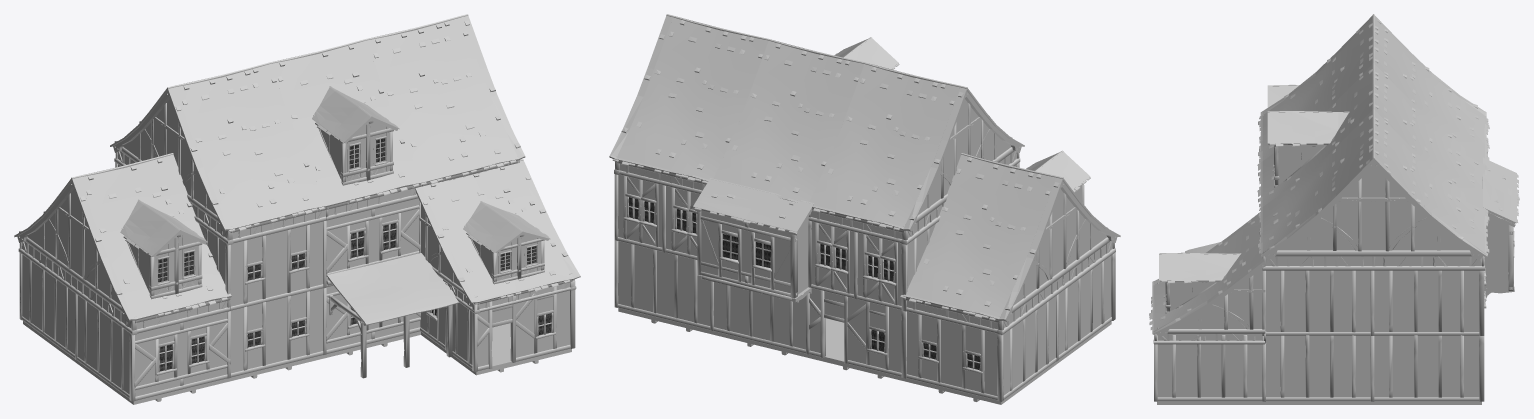
Rendered from House_5.fbx.
3 renders of one model, left to right at view 1: azimuth 30°, elevation 25°; view 2: azimuth 150°, elevation 25°; view 3: azimuth 270°, elevation 25°, orthographic. The views are drawn at different scales.
Parts seen in each view (by area): view 1: StaticMeshComponent04, StaticMeshComponent06, StaticMeshComponent03, StaticMeshComponent012, StaticMeshComponent014, StaticMeshComponent02, StaticMesh3, StaticMeshComponent09, StaticMeshComponent07, StaticMeshComponent016, StaticMeshComponent01, StaticMeshComponent011 (+12 smaller); view 2: StaticMeshComponent030, StaticMeshComponent032, StaticMeshComponent05, StaticMeshComponent031, StaticMeshComponent040, StaticMeshComponent02, StaticMeshComponent059, StaticMeshComponent022, StaticMeshComponent01, StaticMeshComponent052, StaticMeshComponent056, StaticMeshComponent015 (+12 smaller); view 3: StaticMeshComponent034, StaticMeshComponent060, StaticMeshComponent058, StaticMeshComponent048, StaticMeshComponent044, StaticMeshComponent06, StaticMeshComponent055, StaticMeshComponent014, StaticMeshComponent032, StaticMeshComponent030, StaticMeshComponent012, StaticMeshComponent042 (+10 smaller).
Boxes of the visible parts, x1=… form: StaticMeshComponent04: x1=174, y1=62, x2=327, y2=243; StaticMeshComponent06: x1=270, y1=39, x2=422, y2=220; StaticMeshComponent03: x1=78, y1=153, x2=231, y2=333; StaticMeshComponent012: x1=366, y1=16, x2=518, y2=186; StaticMeshComponent014: x1=422, y1=163, x2=573, y2=312; StaticMeshComponent02: x1=14, y1=176, x2=137, y2=335; StaticMesh3: x1=326, y1=253, x2=459, y2=378; StaticMeshComponent09: x1=129, y1=312, x2=230, y2=401; StaticMeshComponent07: x1=225, y1=221, x2=323, y2=311; StaticMeshComponent016: x1=227, y1=288, x2=323, y2=378; StaticMeshComponent01: x1=110, y1=86, x2=233, y2=245; StaticMeshComponent011: x1=323, y1=198, x2=420, y2=288; StaticMeshComponent030: x1=808, y1=62, x2=960, y2=243; StaticMeshComponent032: x1=612, y1=15, x2=768, y2=193; StaticMeshComponent05: x1=900, y1=153, x2=1056, y2=333; StaticMeshComponent031: x1=713, y1=39, x2=864, y2=202; StaticMeshComponent040: x1=693, y1=178, x2=813, y2=302; StaticMeshComponent02: x1=997, y1=176, x2=1120, y2=334; StaticMeshComponent059: x1=614, y1=240, x2=710, y2=329; StaticMeshComponent022: x1=901, y1=311, x2=997, y2=400; StaticMeshComponent01: x1=901, y1=86, x2=1024, y2=244; StaticMeshComponent052: x1=806, y1=288, x2=901, y2=376; StaticMeshComponent056: x1=710, y1=281, x2=805, y2=353; StaticMeshComponent015: x1=997, y1=296, x2=1056, y2=401; StaticMeshComponent034: x1=1261, y1=154, x2=1486, y2=270; StaticMeshComponent060: x1=1370, y1=335, x2=1479, y2=401; StaticMeshComponent058: x1=1262, y1=335, x2=1370, y2=401; StaticMeshComponent048: x1=1370, y1=270, x2=1479, y2=335; StaticMeshComponent044: x1=1262, y1=270, x2=1370, y2=335; StaticMeshComponent06: x1=1257, y1=63, x2=1373, y2=207; StaticMeshComponent055: x1=1154, y1=334, x2=1262, y2=401; StaticMeshComponent014: x1=1149, y1=216, x2=1262, y2=331; StaticMeshComponent032: x1=1373, y1=109, x2=1489, y2=264; StaticMeshComponent030: x1=1373, y1=17, x2=1489, y2=160; StaticMeshComponent012: x1=1258, y1=109, x2=1373, y2=257; StaticMeshComponent042: x1=1152, y1=258, x2=1266, y2=344.
Size of what is drawn, in the model's own units: 2483 by 1550 by 2050.
